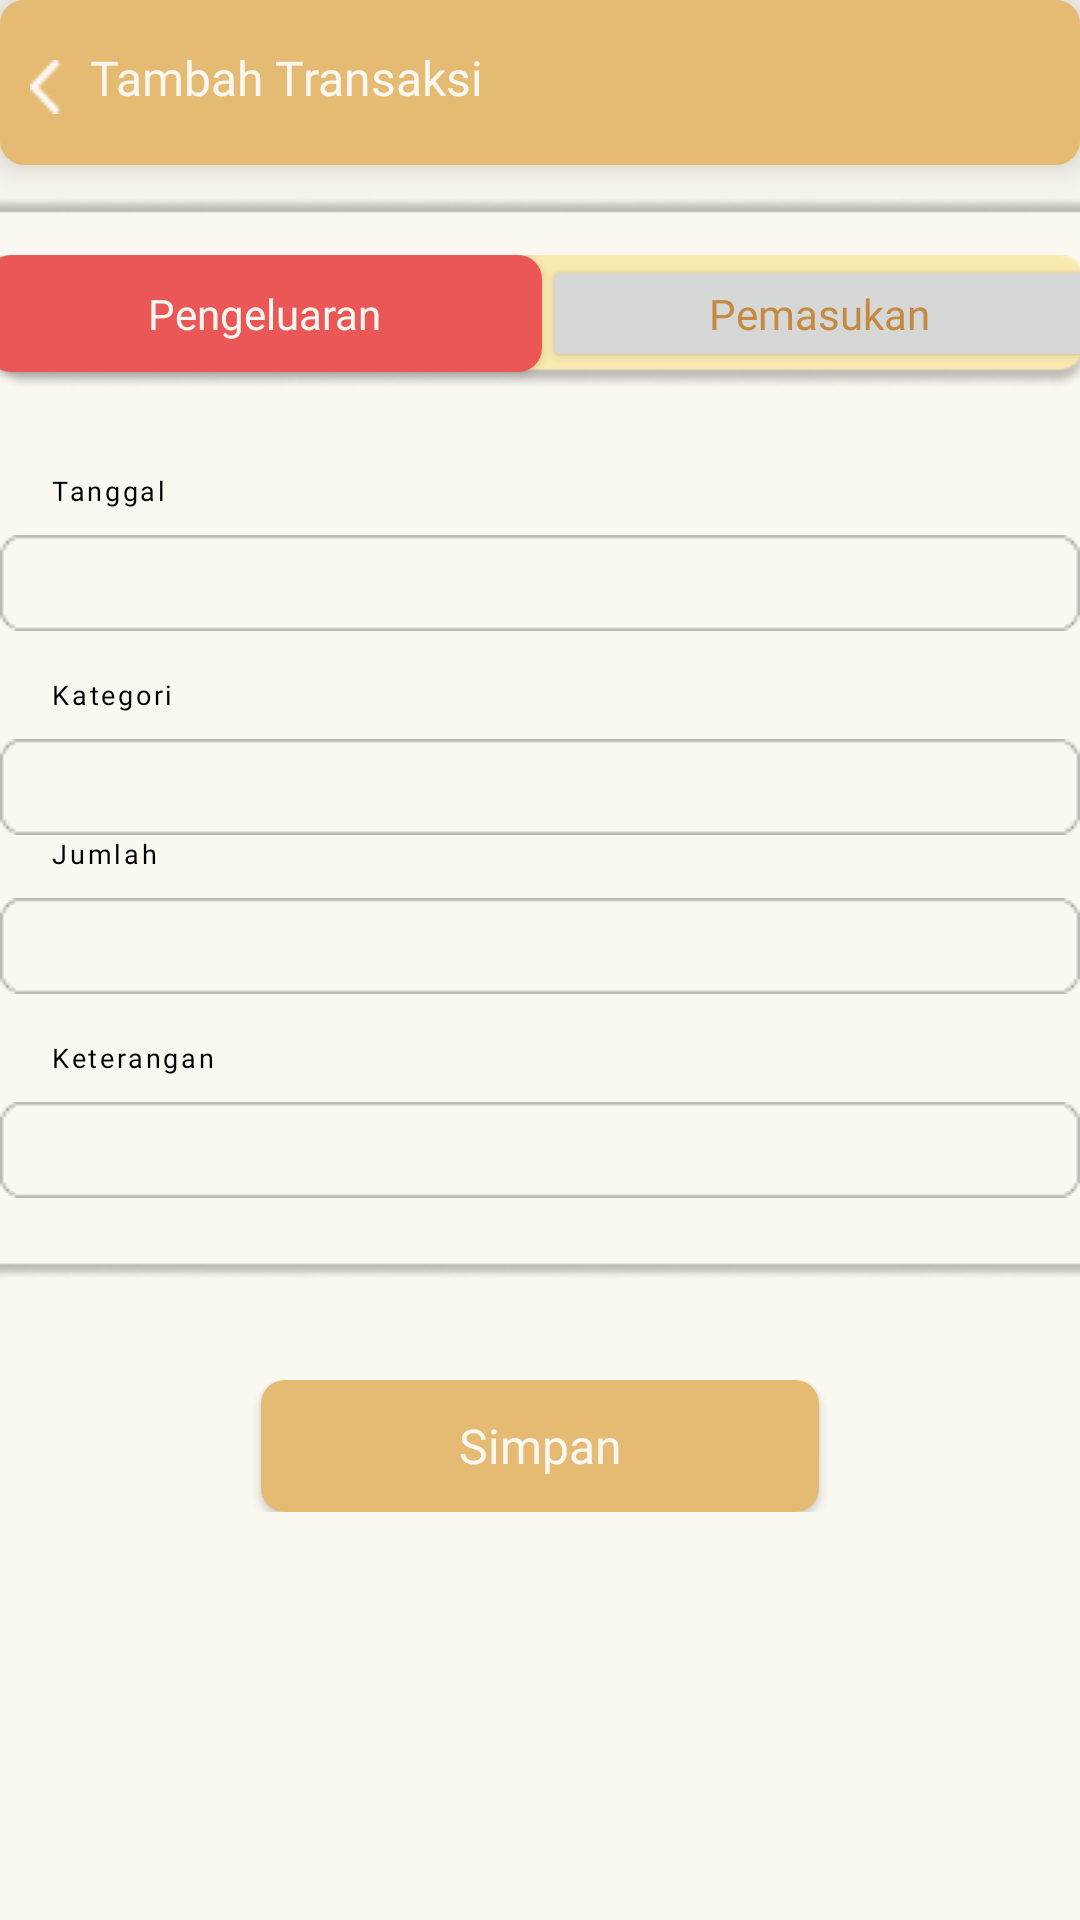

Screen size 1080px×1920px. Icon name, then its box in pixels as region(x1, y1, x2, y2):
back putih: region(30, 60, 61, 114)
